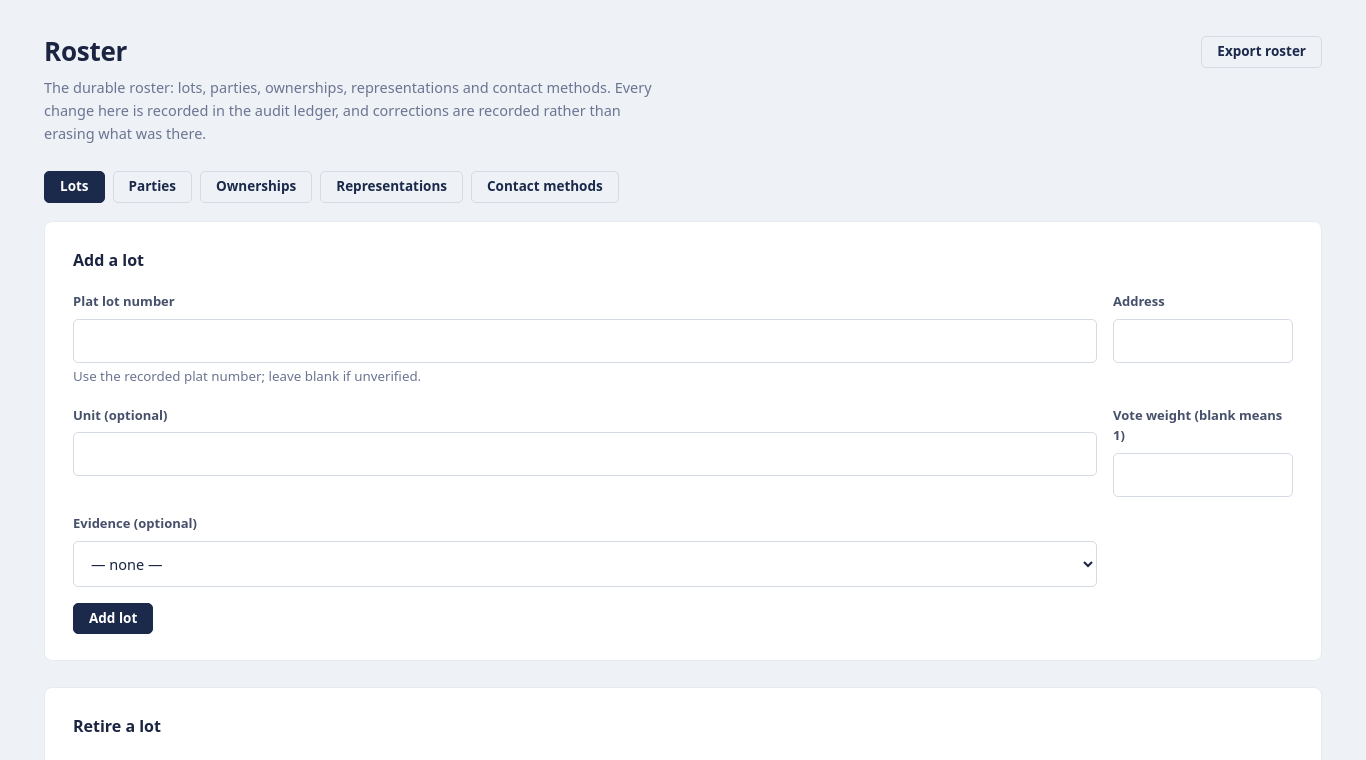
RosterAdminPanel lot records › adds a lot, leaving a blank weight to the server default
In the field labelled "Address": x=1203, y=341 [1113, 319, 1293, 363], type "5 Pine Way"
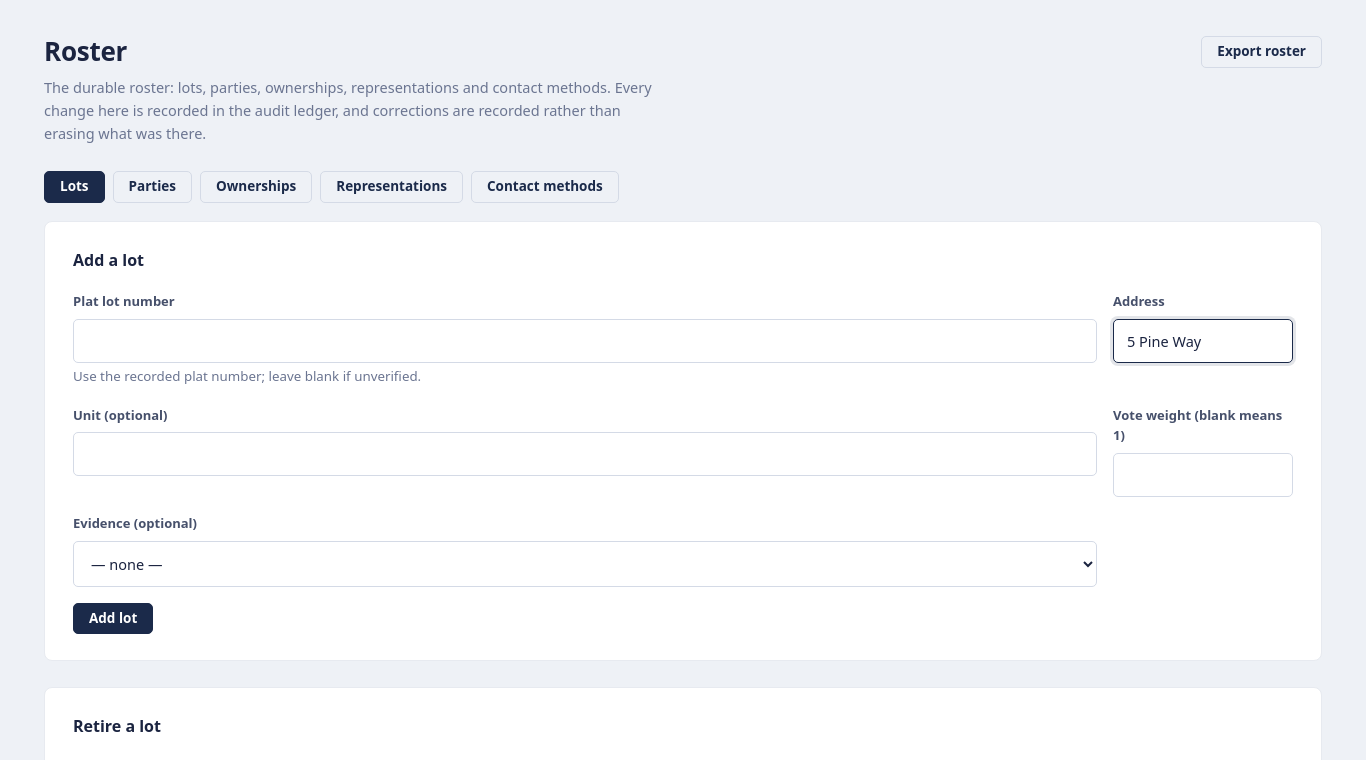
Click the button "Add lot": x=113, y=619 [73, 603, 153, 634]
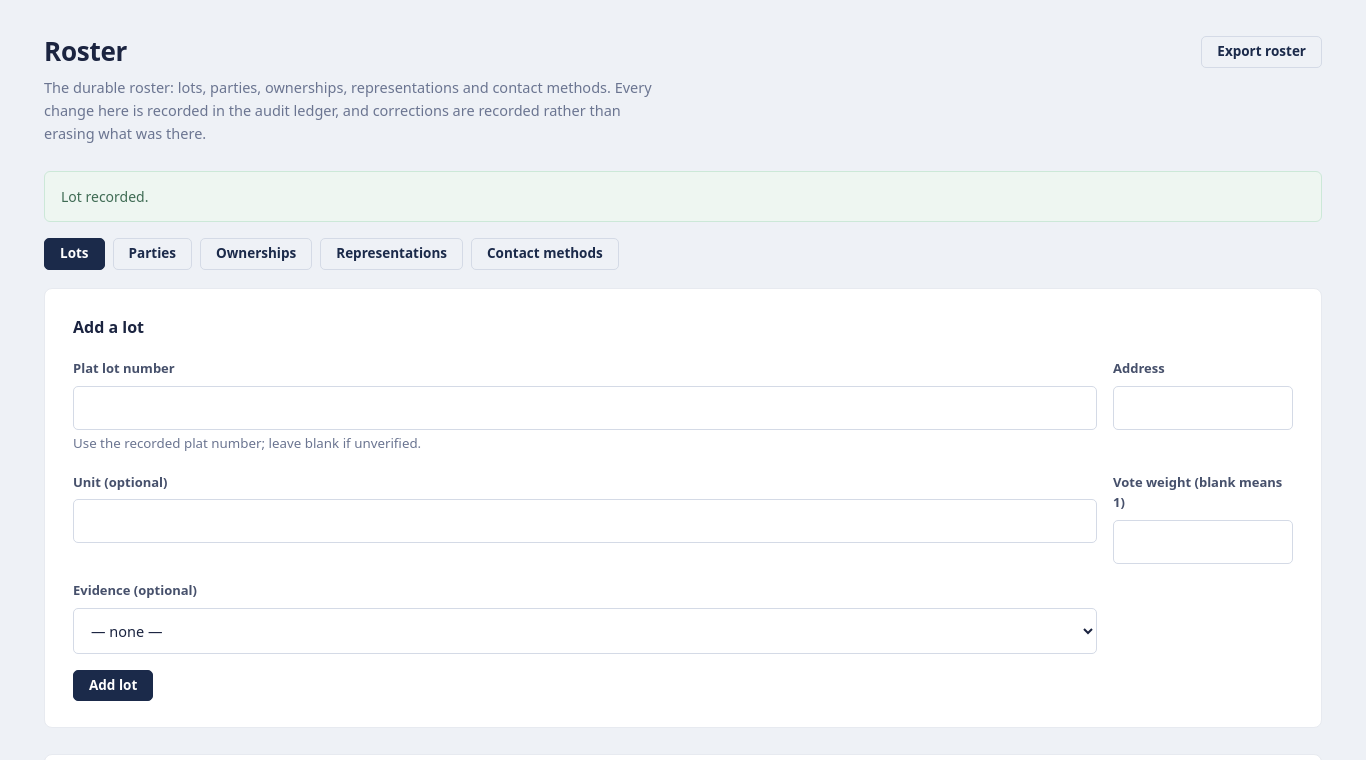
Result: the text "Lot recorded." is shown at [44, 171, 1322, 222]
